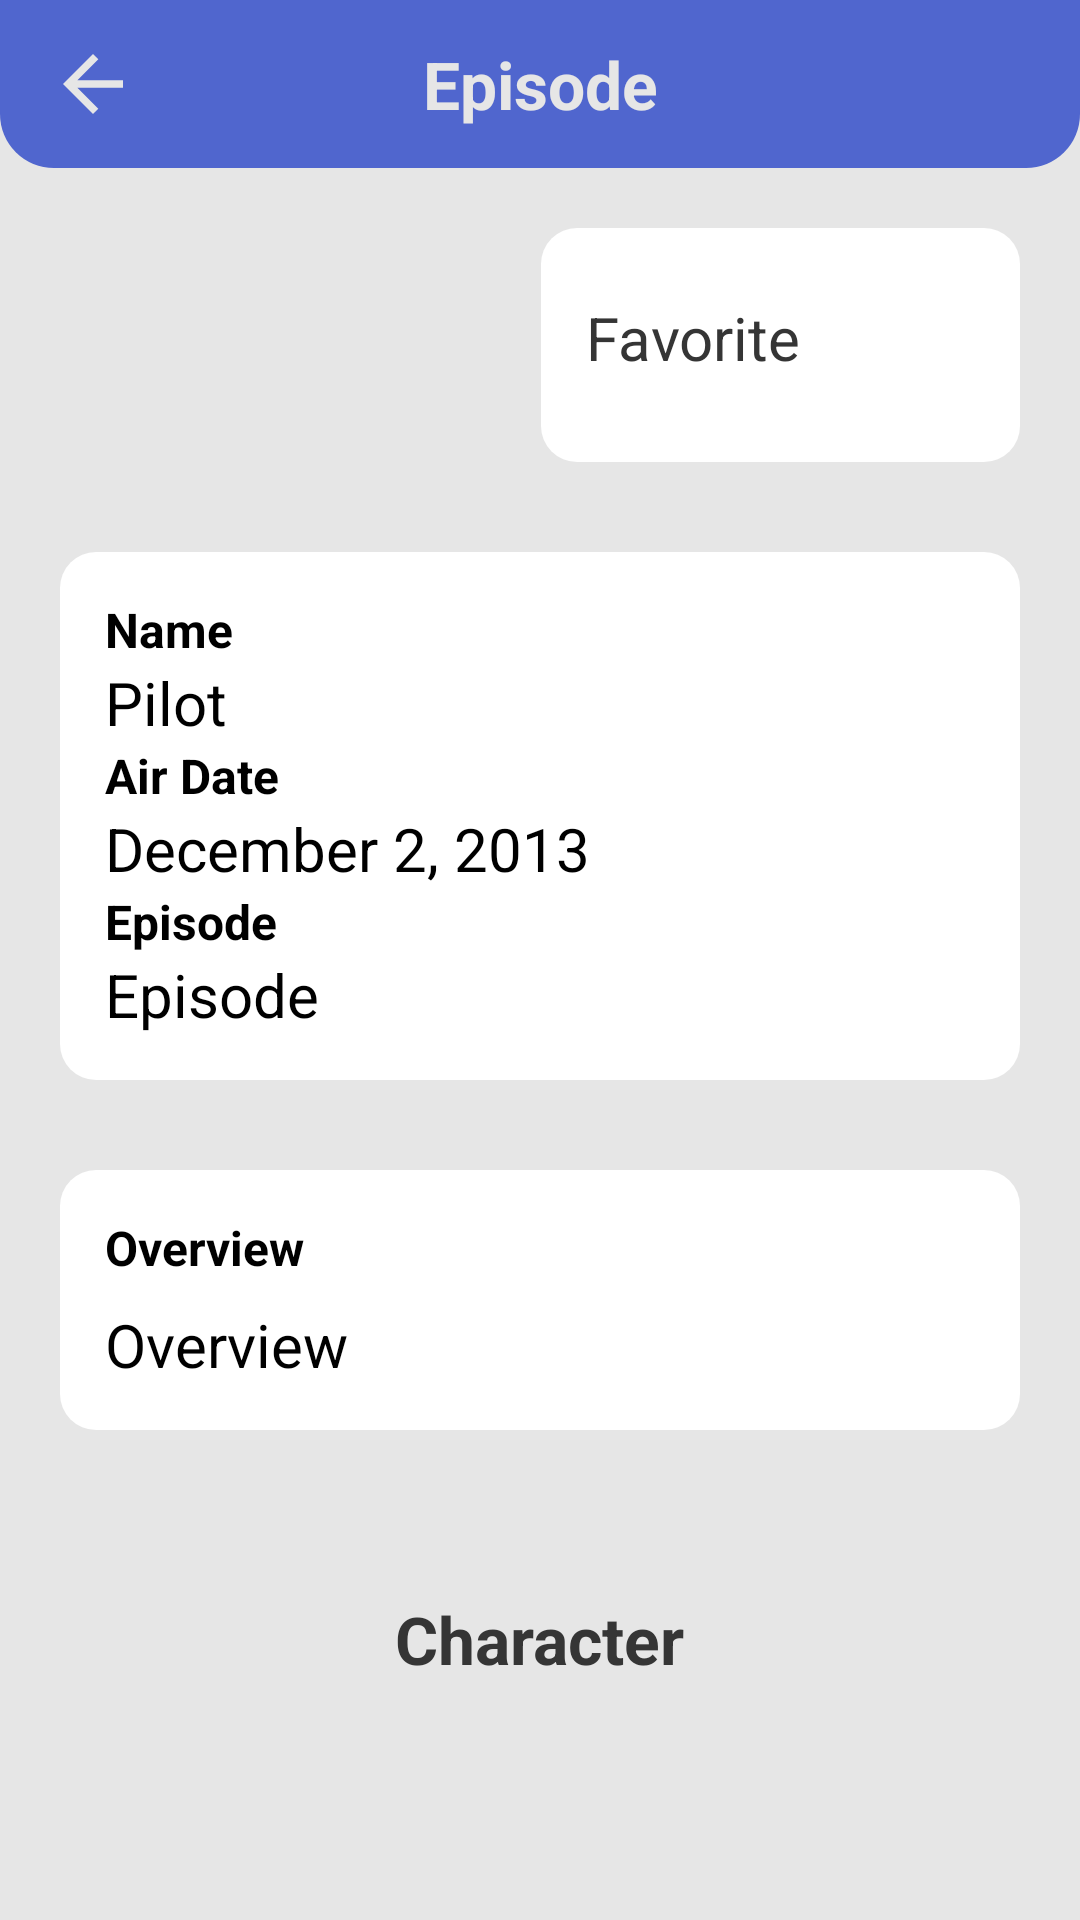

Icons on this 1080px x 1920px Android screen, each with the point to tap as (x=x, y=y):
Back Button: (x=93, y=84)
